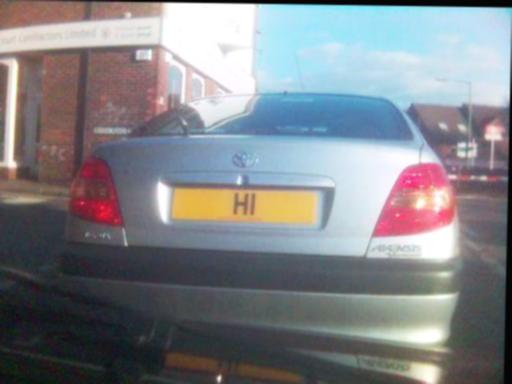License_Plate: (170, 186, 320, 227)
